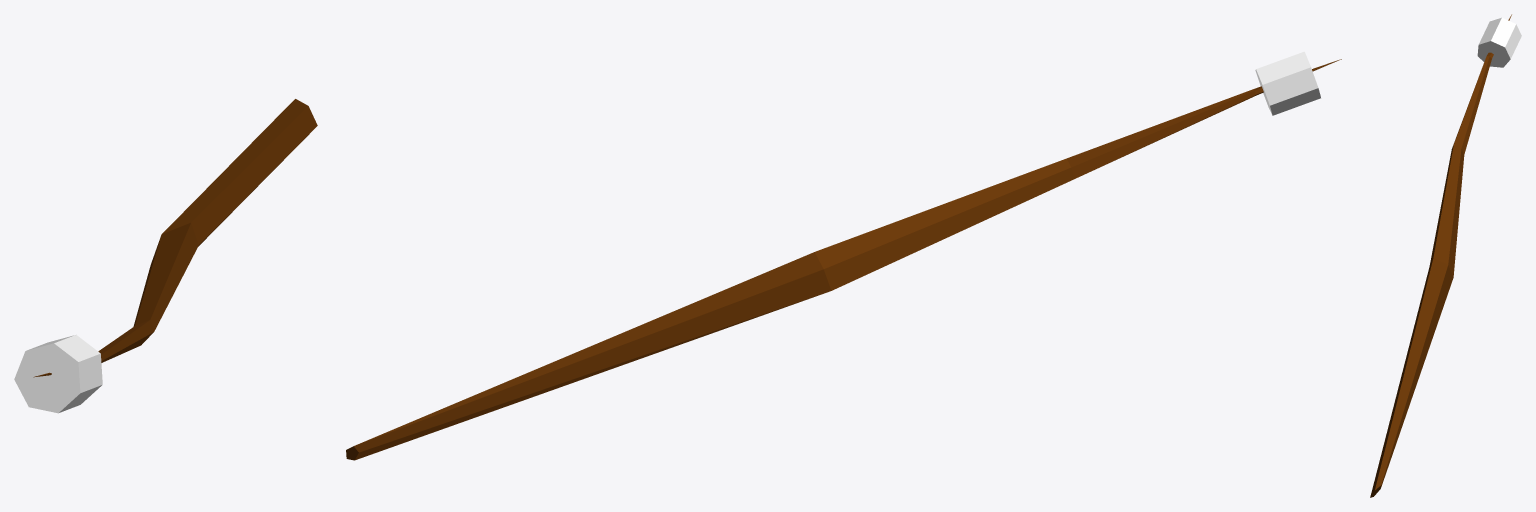
File: MarshmallowStick.fbx
3 views of the same model, side by side, from view 1: azimuth 90°, elevation 25°; view 2: azimuth 210°, elevation 25°; view 3: azimuth 270°, elevation 25° (orthographic). The views are drawn at different scales.
Parts seen in each view (by area): view 1: Cylinder; view 2: Cylinder; view 3: Cylinder.
Boxes of the visible parts, box(x1,y1,x2,y2) form: Cylinder: box(14, 99, 317, 413); Cylinder: box(346, 51, 1341, 460); Cylinder: box(1370, 14, 1521, 497).
Bounding box in the file's own units: 125 × 35.37 × 26.1.
